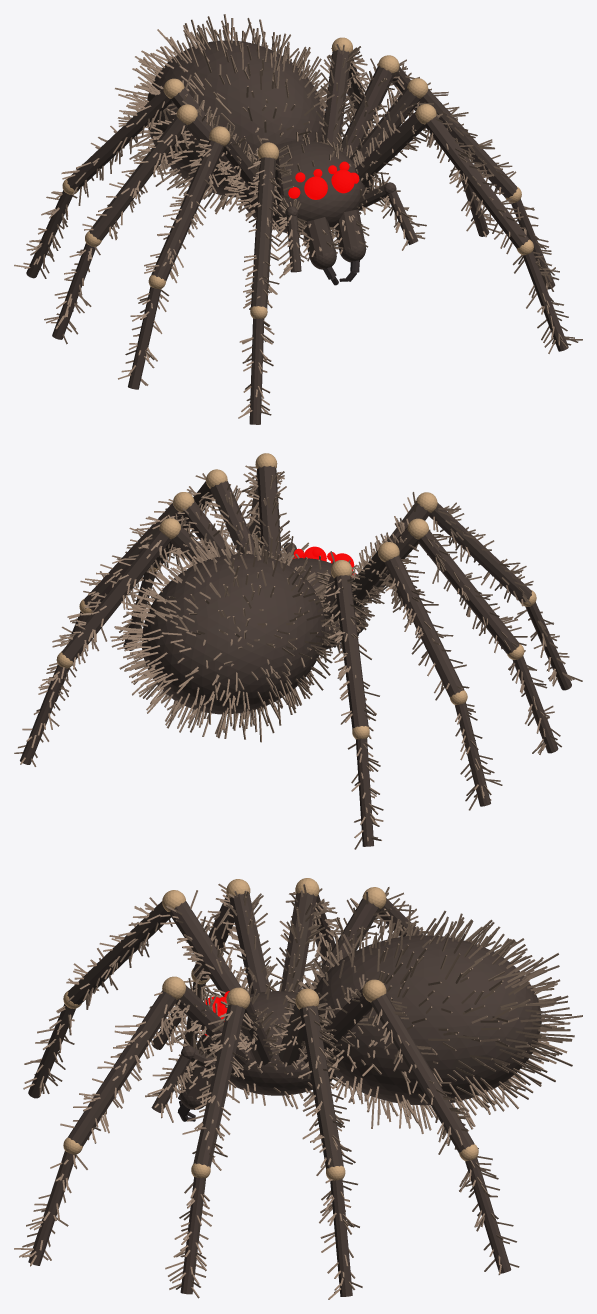
Rendered from spider-v4.glb.
3 views of the same model, one above another, from view 1: azimuth 30°, elevation 25°; view 2: azimuth 150°, elevation 25°; view 3: azimuth 270°, elevation 25° (orthographic). The views are drawn at different scales.
Parts seen in each view (by area): view 1: Abdomen_body, Torso_body, Abdomen_bristle, LegR0_body, LegL1_body, LegL2_body, LegL0_body, LegR1_body, LegL3_body, LegR0_bristle, Torso_bristle, LegL1_bristle (+9 smaller); view 2: Abdomen_body, Abdomen_bristle, LegL2_body, LegR3_body, LegL3_body, LegL1_body, LegL0_body, LegL1_bristle, LegL2_bristle, LegR3_bristle, LegR2_body, LegL3_bristle (+13 smaller); view 3: Abdomen_body, Abdomen_bristle, Torso_body, LegR0_body, LegR3_body, LegL0_body, LegR1_body, LegR2_body, LegL0_bristle, LegR1_bristle, LegR0_bristle, LegR2_bristle (+12 smaller).
Boxes of the visible parts, box(x1,y1,x2,y2) form: Abdomen_body: box(147, 40, 324, 197); Torso_body: box(237, 140, 418, 272); Abdomen_bristle: box(115, 14, 343, 214); LegR0_body: box(355, 112, 568, 351); LegL1_body: box(128, 136, 258, 389); LegL2_body: box(52, 113, 246, 339); LegL0_body: box(249, 157, 283, 424); LegR1_body: box(350, 87, 555, 289); LegL3_body: box(26, 87, 215, 278); LegR0_bristle: box(349, 111, 582, 353); Torso_bristle: box(224, 128, 426, 278); LegL1_bristle: box(118, 124, 259, 385); Abdomen_body: box(142, 554, 324, 714); Abdomen_bristle: box(111, 533, 342, 742); LegL2_body: box(352, 551, 490, 806); LegR3_body: box(20, 526, 208, 764); LegL3_body: box(322, 573, 373, 846); LegL1_body: box(356, 527, 558, 753); LegL0_body: box(387, 503, 571, 690); LegL1_bristle: box(356, 518, 561, 754); LegL2_bristle: box(336, 535, 502, 810); LegR3_bristle: box(14, 513, 217, 766); LegR2_body: box(55, 501, 232, 701); LegL3_bristle: box(316, 551, 383, 849); Abdomen_body: box(314, 935, 541, 1105); Abdomen_bristle: box(292, 905, 582, 1133); Torso_body: box(151, 991, 335, 1112); LegR0_body: box(28, 985, 250, 1265); LegR3_body: box(302, 988, 511, 1273); LegL0_body: box(28, 901, 240, 1098); LegR1_body: box(180, 1000, 272, 1294); LegR2_body: box(278, 1002, 352, 1296); LegL0_bristle: box(23, 890, 252, 1096); LegR1_bristle: box(165, 986, 279, 1298); LegR0_bristle: box(14, 978, 250, 1266); LegR2_bristle: box(268, 992, 362, 1299).
Bounding box in the file's own units: 0.1829 × 0.0924 × 0.1787.
